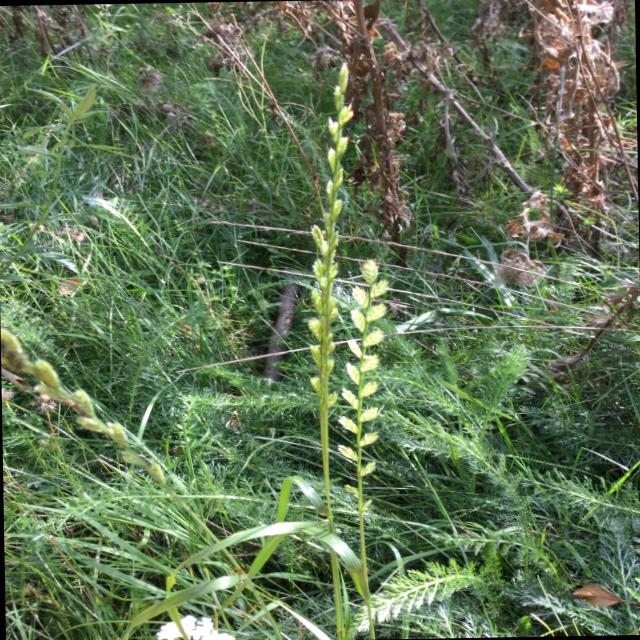Lolium: (4, 328, 180, 498), (304, 67, 356, 411), (334, 253, 397, 500), (84, 190, 158, 262)
